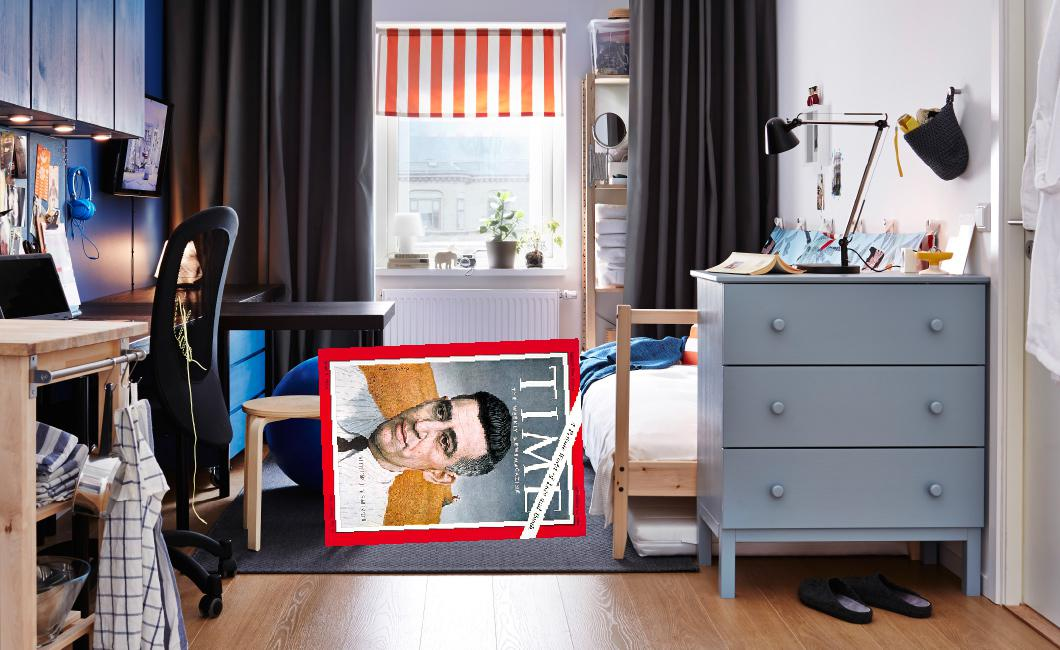times: (311, 335, 585, 549)
